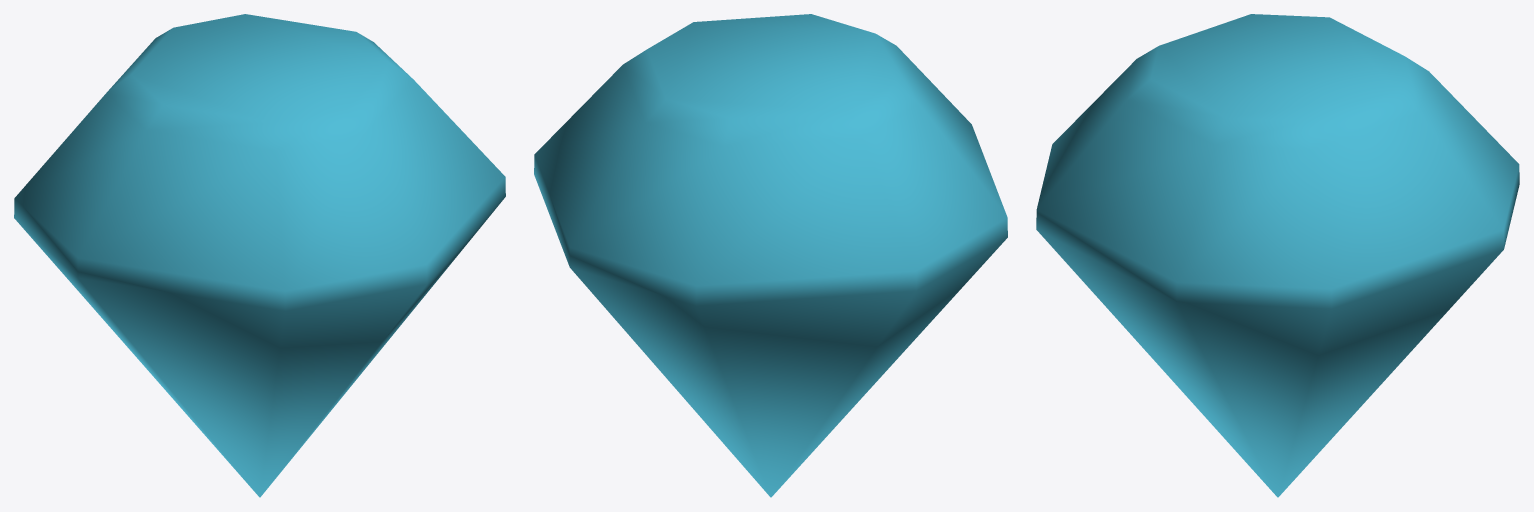
Rendered from diamond.glb.
The picture shows the model from 3 angles, left to right: view 1: azimuth 30°, elevation 25°; view 2: azimuth 150°, elevation 25°; view 3: azimuth 270°, elevation 25°; orthographic projection.
Visible parts, largest first — view 1: Gem_Green; view 2: Gem_Green; view 3: Gem_Green.
Part boxes in pixels (x1,y1,x2,y2): Gem_Green: [14, 14, 505, 497]; Gem_Green: [534, 14, 1007, 497]; Gem_Green: [1036, 14, 1519, 497].
Size of the model in its own units: 1.1 by 1.08 by 1.1.
